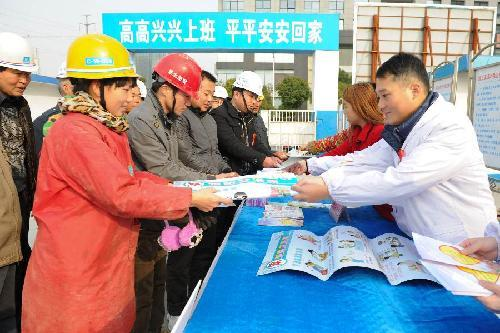helmet: (67, 32, 135, 82), (154, 55, 208, 100), (234, 72, 265, 94), (214, 84, 233, 100)
